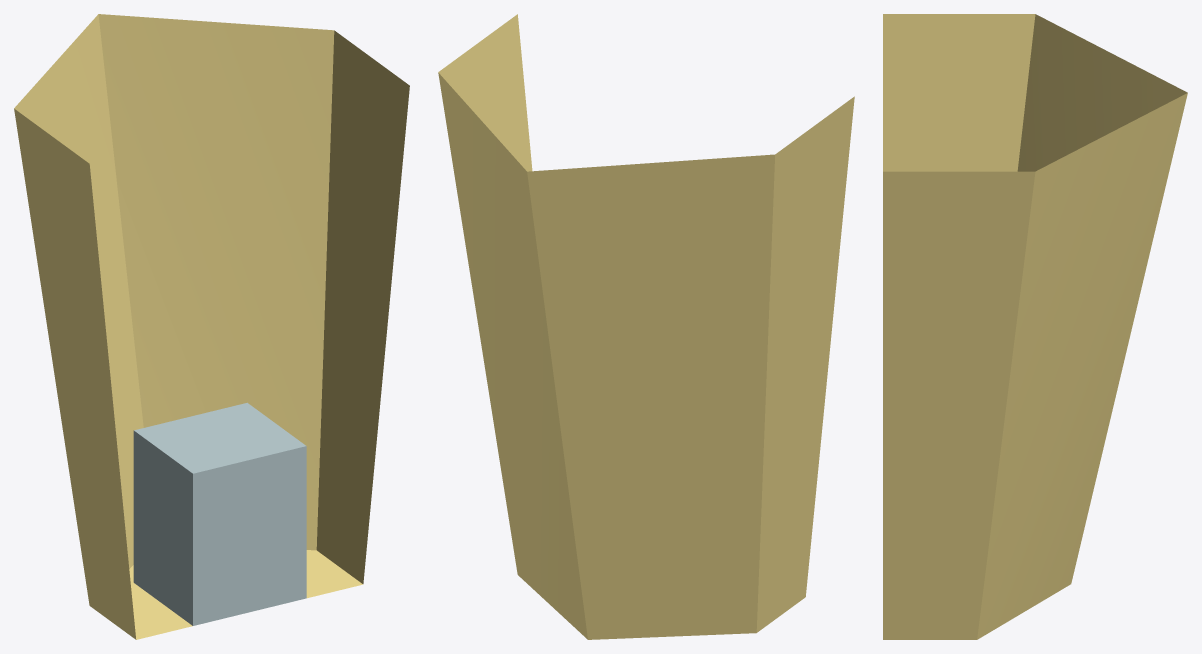
The model's file is furn-light-wall-sconce.glb.
3 views of the same model, side by side, from view 1: azimuth 30°, elevation 25°; view 2: azimuth 150°, elevation 25°; view 3: azimuth 270°, elevation 25° (orthographic). The views are drawn at different scales.
Parts seen in each view (by area): view 1: lampWall; view 2: lampWall; view 3: lampWall.
Boxes of the visible parts, x1,y1,x2,y2 form: lampWall: (14,14,409,639); lampWall: (438,14,854,639); lampWall: (883,14,1187,639).
Size of the model in its own units: 0.22 by 0.32 by 0.18.
